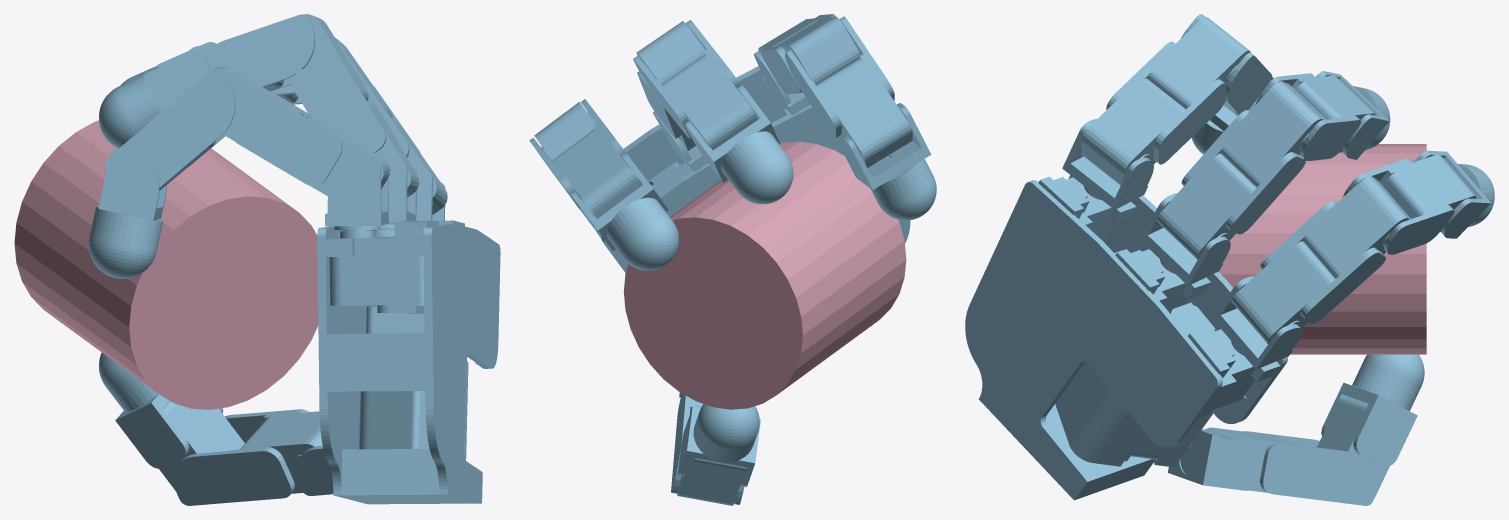
The picture shows the model from 3 angles, left to right: view 1: azimuth 30°, elevation 25°; view 2: azimuth 150°, elevation 25°; view 3: azimuth 270°, elevation 25°; orthographic projection. The views are drawn at different scales.
Visible parts, largest first — view 1: world; view 2: world; view 3: world.
Part boxes in pixels (x1,y1,x2,y2): world: [14, 14, 500, 505]; world: [529, 14, 936, 505]; world: [965, 14, 1494, 505].
Size of the model in its own units: 0.1629 by 0.1918 by 0.2008.
